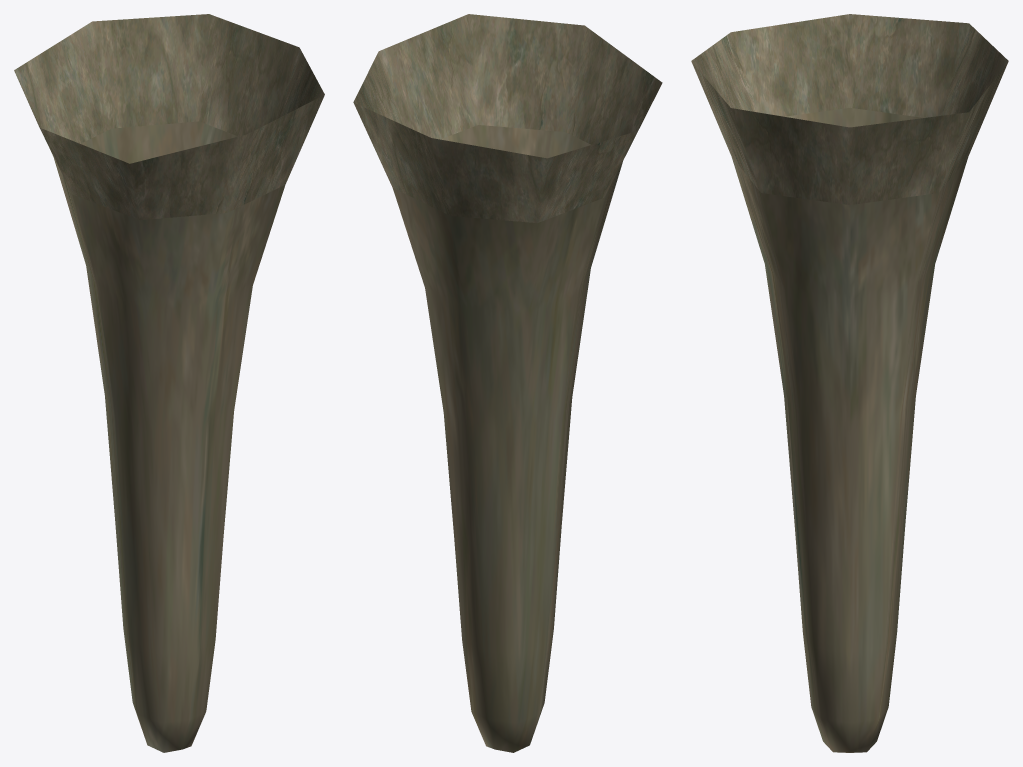
Rendered from OVERHILL_A_01_STLAG_102.fbx.
3 views of the same model, side by side, from view 1: azimuth 30°, elevation 25°; view 2: azimuth 150°, elevation 25°; view 3: azimuth 270°, elevation 25° (orthographic). The views are drawn at different scales.
Visible parts, largest first — view 1: OVERHILL_A_01_STLAG_102; view 2: OVERHILL_A_01_STLAG_102; view 3: OVERHILL_A_01_STLAG_102.
Boxes of the visible parts, x1=… form: OVERHILL_A_01_STLAG_102: x1=14, y1=14, x2=324, y2=752; OVERHILL_A_01_STLAG_102: x1=353, y1=14, x2=662, y2=752; OVERHILL_A_01_STLAG_102: x1=691, y1=14, x2=1008, y2=752.
Size of the model in its own units: 38089 by 94411 by 39163.
Materials: 1 (1 with a texture image).
